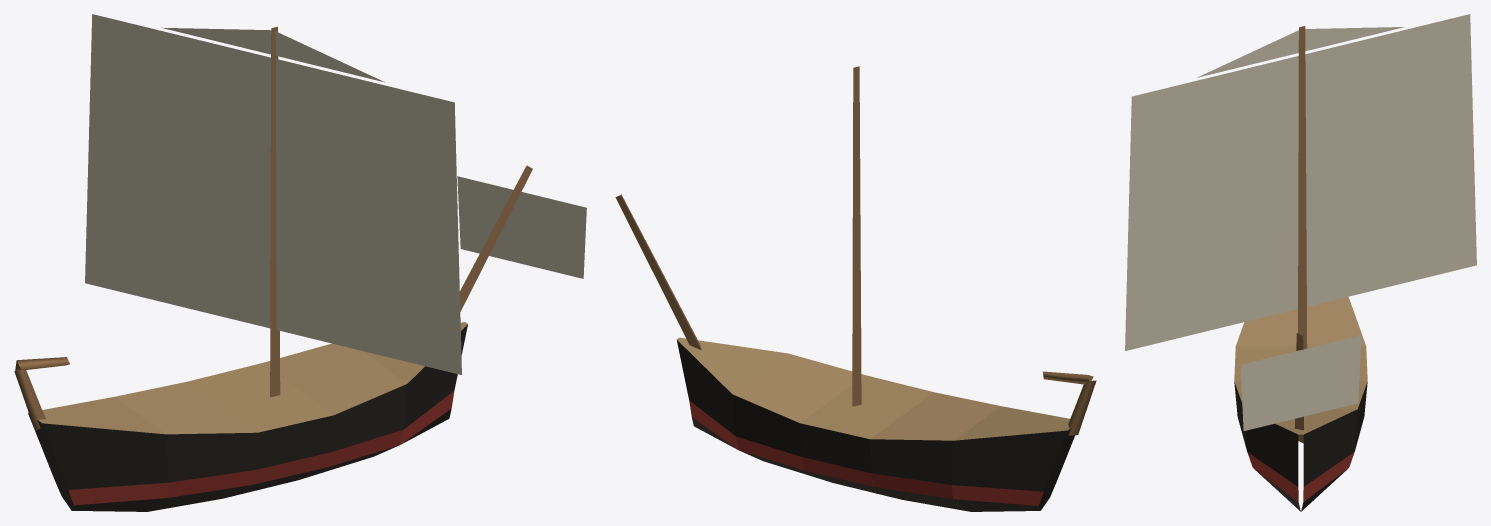
The model's file is hull_usd_merchant_large_lod.glb.
3 views of the same model, side by side, from view 1: azimuth 30°, elevation 25°; view 2: azimuth 150°, elevation 25°; view 3: azimuth 270°, elevation 25° (orthographic). The views are drawn at different scales.
Visible parts, largest first — view 1: lod; view 2: lod; view 3: lod.
Boxes of the visible parts, x1,y1,x2,y2 form: lod: (14, 14, 586, 511); lod: (615, 66, 1096, 511); lod: (1125, 14, 1476, 511).
Bounding box in the file's own units: 22.6 × 18.32 × 13.62.
